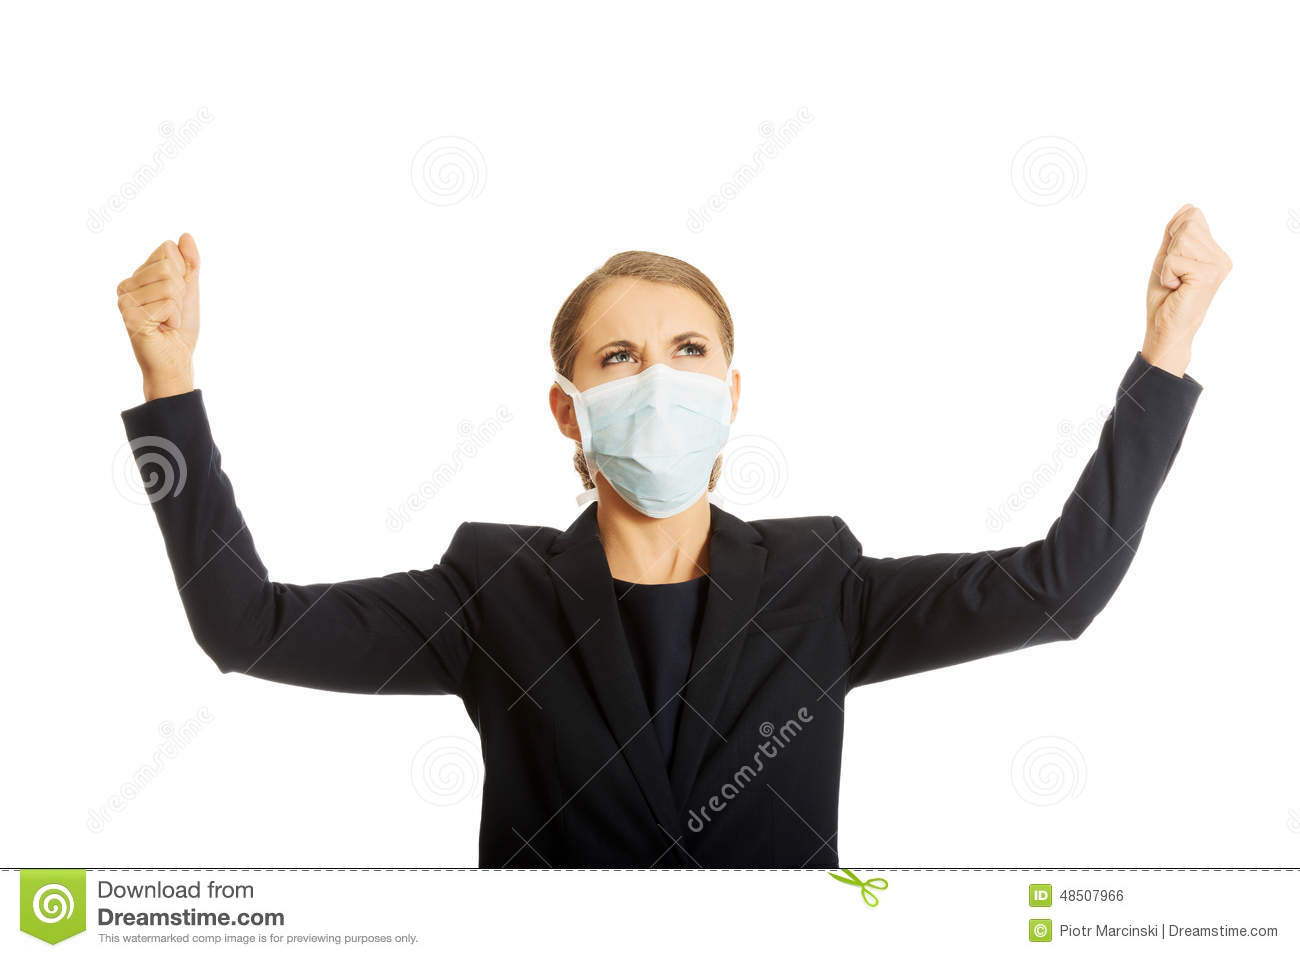mask: (577, 363, 734, 518)
